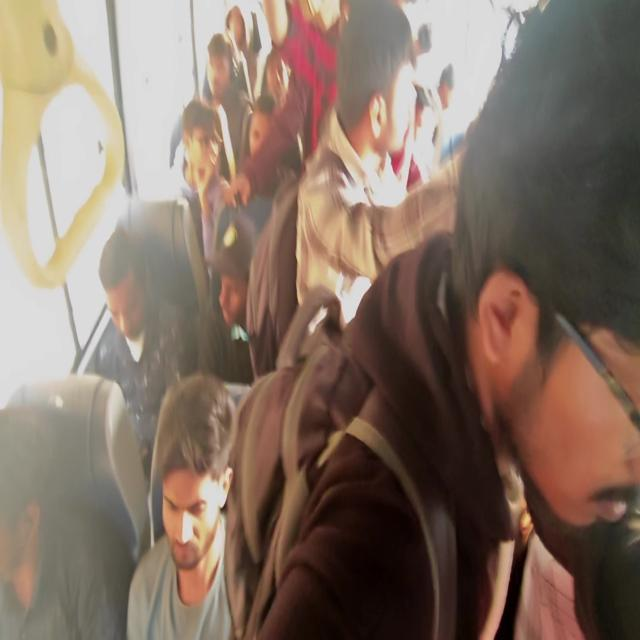person: (452, 45, 640, 505), (0, 380, 124, 640), (72, 219, 190, 417), (152, 396, 246, 604), (338, 19, 433, 205), (182, 95, 262, 260), (239, 110, 297, 192), (256, 53, 308, 129), (203, 31, 240, 98), (432, 70, 474, 129), (413, 17, 438, 60), (227, 8, 254, 42)
